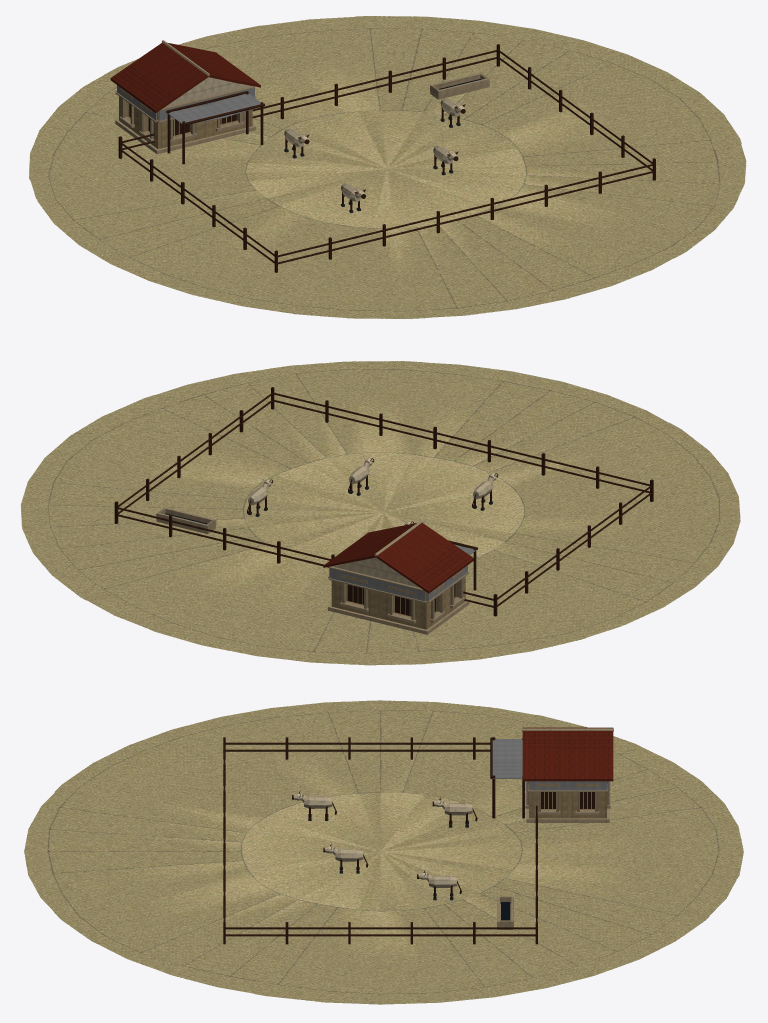
File: pasture-bronze.glb
3 views of the same model, one above another, from view 1: azimuth 30°, elevation 25°; view 2: azimuth 150°, elevation 25°; view 3: azimuth 270°, elevation 25° (orthographic).
Visible parts, largest first — view 1: LOD0; view 2: LOD0; view 3: LOD0.
Part boxes in pixels (x1,y1,x2,y2): LOD0: (29,16,746,318); LOD0: (21,361,740,665); LOD0: (24,700,743,1004).
Size of what is drawn, in the model's own units: 4.74 by 0.4956 by 4.74.
3 materials, 3 textured.
